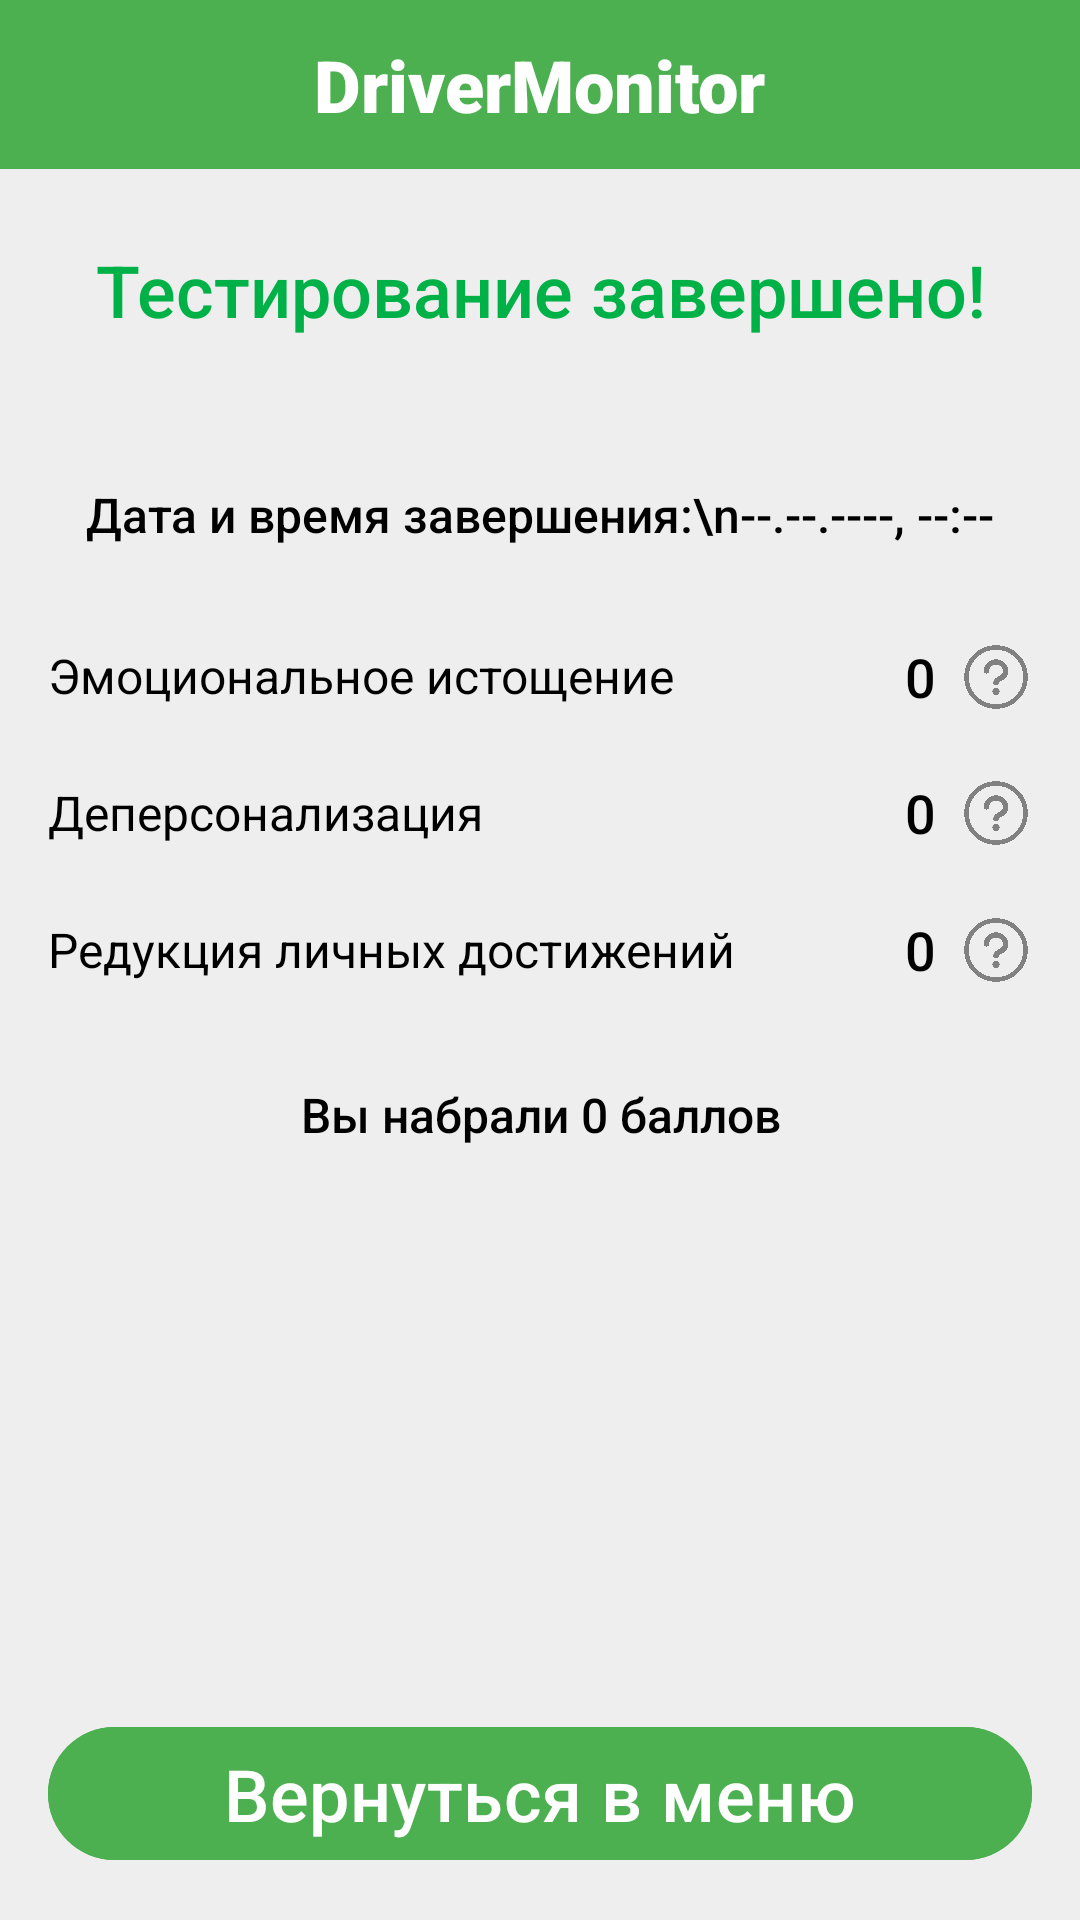

Screen size 1080 × 1920. Icon name, then its center in pixels as (x=x, y=y):
Подсказка по деперсонализации: (x=996, y=813)
Подсказка по редукции личных достижений: (x=996, y=950)
Подсказка по эмоциональному истощению: (x=996, y=677)
